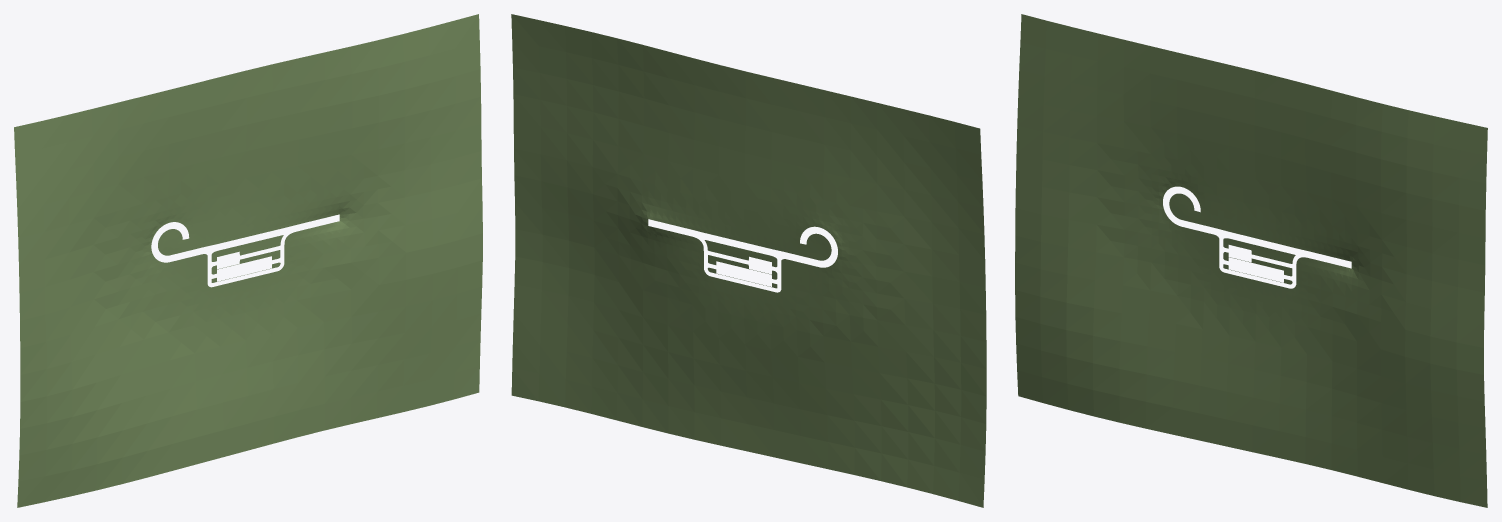
The model's file is 2015481_Roadfile_28.obj.
3 renders of one model, left to right at view 1: azimuth 30°, elevation 25°; view 2: azimuth 150°, elevation 25°; view 3: azimuth 330°, elevation 25°, orthographic.
Parts seen in each view (by area): view 1: Background; view 2: Background; view 3: Background.
Boxes of the visible parts, x1,y1,x2,y2 form: Background: (14,14,482,507); Background: (511,14,986,507); Background: (1015,14,1487,507).
Bounding box in the file's own units: 720 × 560 × 23.48.
